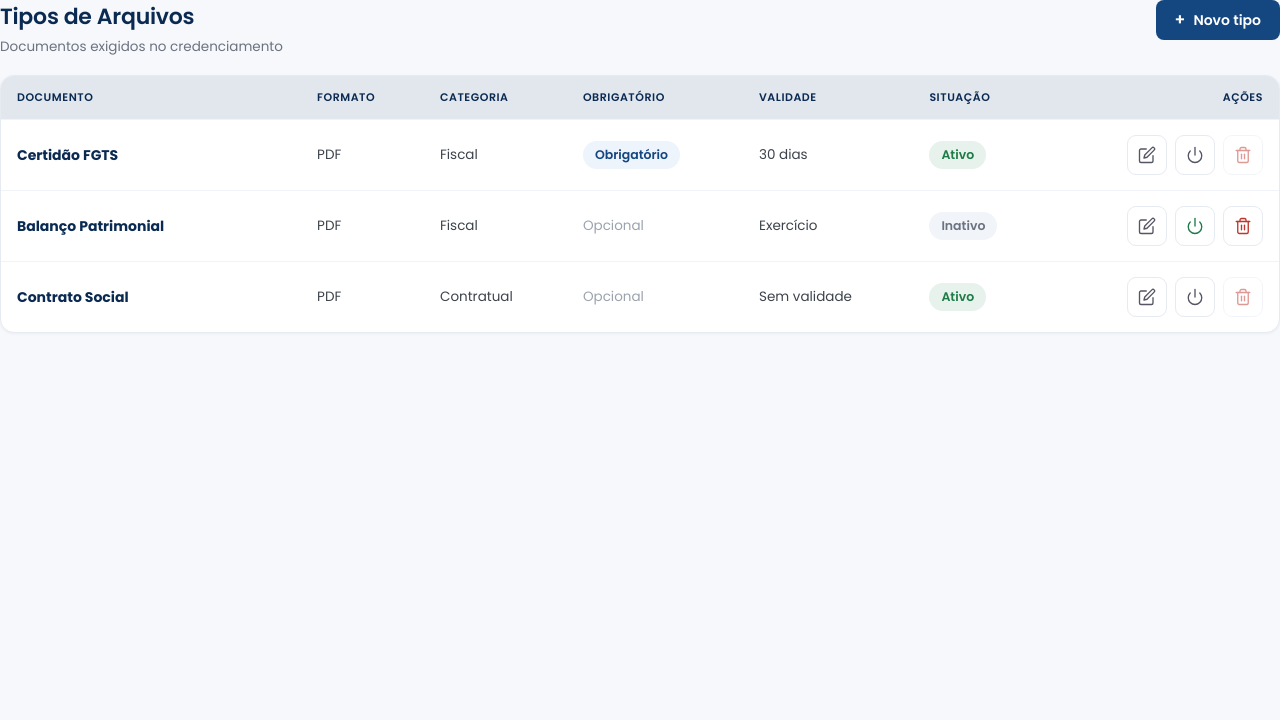
Scenario: TiposArquivos — Painel Admin (Tipos de Documento, RF022) › editar um tipo por exercício pré-seleciona o modo "Exercício"
Click the button with test id "editar" in the row of "Balanço Patrimonial".
click(1147, 226)  # box x1=1127 y1=206 x2=1167 y2=246
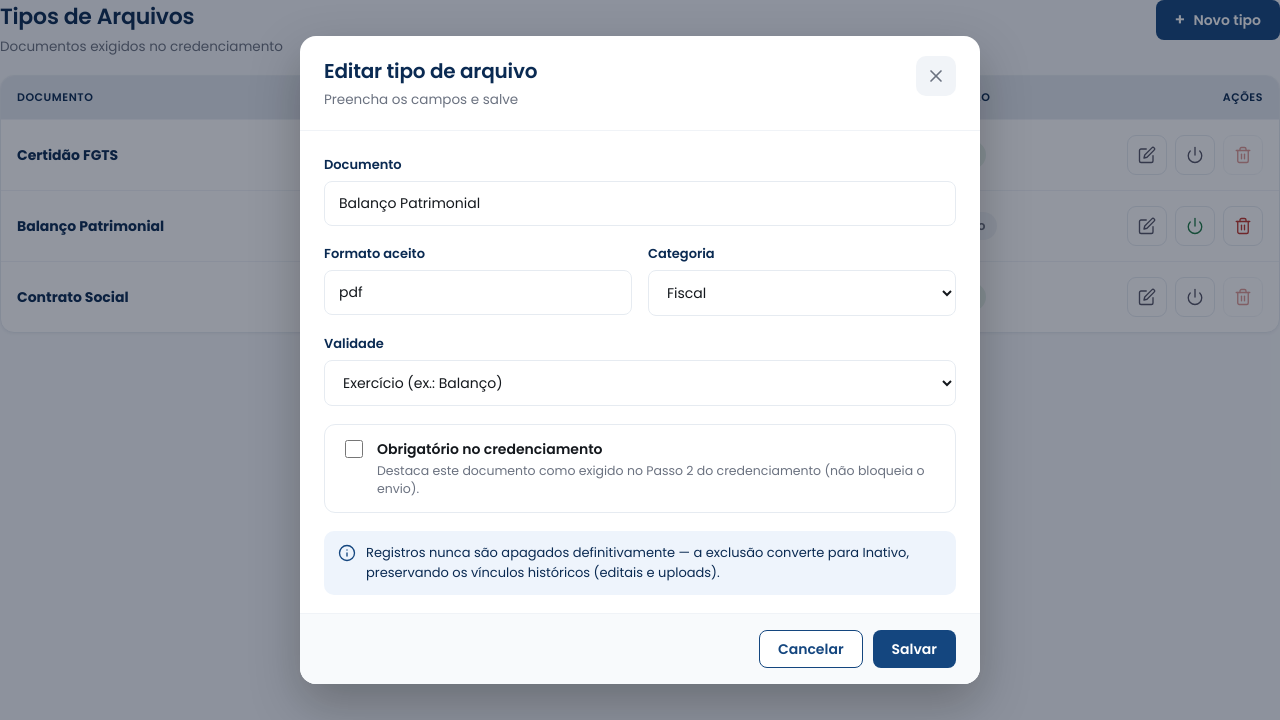
Expected: the dialog with test id "modal-tipo" is shown, x1=300 y1=36 x2=980 y2=684
Expected: the dropdown with test id "campo-validade-modo" shows "Exercício (ex.: Balanço)", x1=324 y1=360 x2=956 y2=406
